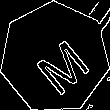M_NW: (22, 23, 88, 92)
